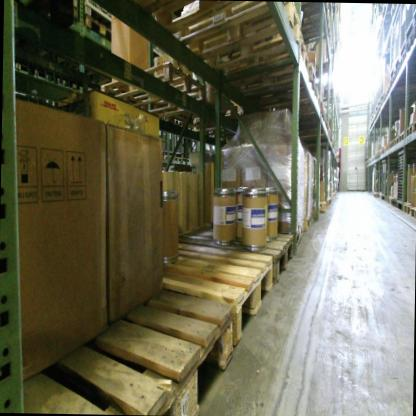pallet: (7, 274, 241, 413), (136, 237, 272, 323), (153, 0, 301, 69), (162, 225, 296, 297), (85, 47, 206, 126), (208, 23, 311, 89), (139, 86, 242, 135), (230, 45, 316, 95), (247, 69, 320, 114), (295, 2, 331, 39), (81, 20, 113, 43), (300, 197, 332, 211), (297, 211, 314, 237), (291, 222, 303, 258), (385, 82, 415, 96), (394, 66, 416, 83), (389, 74, 415, 88), (406, 16, 416, 52), (399, 49, 416, 70), (319, 59, 334, 78), (317, 112, 329, 133), (309, 132, 332, 142), (377, 19, 390, 34), (179, 152, 192, 165), (403, 200, 414, 214), (317, 100, 325, 119), (378, 145, 388, 158), (397, 129, 405, 144), (405, 120, 411, 139), (171, 152, 182, 162), (410, 204, 416, 222), (388, 5, 397, 17), (380, 5, 389, 17), (164, 153, 175, 162), (393, 134, 400, 148), (411, 115, 416, 134), (324, 123, 330, 136), (389, 137, 394, 150), (388, 191, 392, 205), (392, 198, 397, 206), (374, 190, 379, 198), (375, 108, 379, 118), (383, 92, 387, 101), (377, 103, 381, 111), (377, 192, 381, 199), (375, 151, 378, 159), (381, 97, 384, 105)
stillage: (396, 148, 414, 212), (82, 2, 121, 27), (380, 157, 397, 201), (388, 23, 396, 75), (151, 125, 165, 152), (394, 8, 400, 67), (399, 4, 406, 54), (171, 132, 184, 154), (406, 4, 413, 38), (163, 131, 173, 153), (371, 170, 379, 192), (68, 1, 83, 9), (411, 4, 416, 25)
